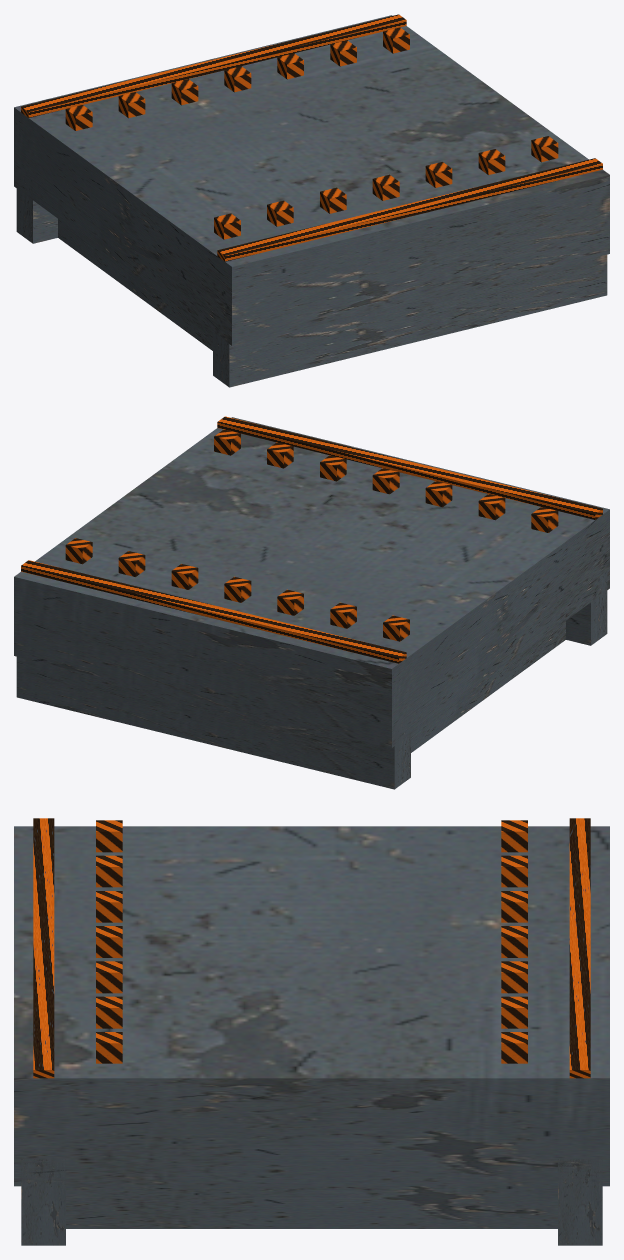
Rendered from connector_ramp.glb.
The picture shows the model from 3 angles, top to bottom: view 1: azimuth 30°, elevation 25°; view 2: azimuth 150°, elevation 25°; view 3: azimuth 270°, elevation 25°; orthographic projection. The views are drawn at different scales.
Visible parts, largest first — view 1: RampDeck, RampSideChord0.45, SafetyStripe0.45, SafetyStripe-0.45, RampRib0, RampSideChord-0.45, RampBolt3-0.34, RampBolt0-0.34, RampBolt40.34, RampBolt50.34, RampBolt1-0.34, RampBolt30.34 (+8 smaller); view 2: RampDeck, RampSideChord-0.45, SafetyStripe-0.45, SafetyStripe0.45, RampRib0, RampSideChord0.45, RampBolt30.34, RampBolt00.34, RampBolt4-0.34, RampBolt5-0.34, RampBolt10.34, RampBolt3-0.34 (+8 smaller); view 3: RampDeck, RampRib6, SafetyStripe-0.45, SafetyStripe0.45, RampSideChord-0.45, RampSideChord0.45, RampBolt0-0.34, RampBolt00.34, RampBolt1-0.34, RampBolt10.34, RampBolt4-0.34, RampBolt40.34 (+8 smaller).
Part boxes in pixels (<box>): RampDeck: <box>14,15,609,345</box>; RampSideChord0.45: <box>213,254,607,387</box>; SafetyStripe0.45: <box>217,158,602,261</box>; SafetyStripe-0.45: <box>21,14,406,117</box>; RampRib0: <box>58,219,212,350</box>; RampSideChord-0.45: <box>16,170,57,243</box>; RampBolt3-0.34: <box>224,66,251,92</box>; RampBolt0-0.34: <box>65,105,92,130</box>; RampBolt40.34: <box>425,162,452,187</box>; RampBolt50.34: <box>478,149,505,174</box>; RampBolt1-0.34: <box>118,92,145,118</box>; RampBolt30.34: <box>372,174,399,200</box>; RampDeck: <box>14,417,609,747</box>; RampSideChord-0.45: <box>16,656,410,789</box>; SafetyStripe-0.45: <box>21,560,406,663</box>; SafetyStripe0.45: <box>217,416,602,519</box>; RampRib0: <box>411,621,565,752</box>; RampSideChord0.45: <box>566,571,607,645</box>; RampBolt30.34: <box>372,468,399,494</box>; RampBolt00.34: <box>531,507,558,532</box>; RampBolt4-0.34: <box>171,564,198,589</box>; RampBolt5-0.34: <box>118,551,145,576</box>; RampBolt10.34: <box>478,494,505,520</box>; RampBolt3-0.34: <box>224,576,251,602</box>; RampDeck: <box>14,826,609,1186</box>; RampRib6: <box>66,1186,557,1228</box>; SafetyStripe-0.45: <box>569,818,590,1078</box>; SafetyStripe0.45: <box>33,818,54,1078</box>; RampSideChord-0.45: <box>558,1159,602,1245</box>; RampSideChord0.45: <box>21,1159,65,1245</box>; RampBolt0-0.34: <box>501,820,527,852</box>; RampBolt00.34: <box>96,820,122,852</box>; RampBolt1-0.34: <box>501,855,527,887</box>; RampBolt10.34: <box>96,855,122,887</box>; RampBolt4-0.34: <box>501,961,527,993</box>; RampBolt40.34: <box>96,961,122,993</box>.
Bounding box in the file's own units: 1 × 0.348 × 1.
Materials: 2 (2 with a texture image).
